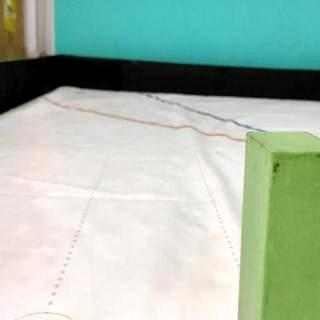greenbox: (233, 129, 320, 320)
